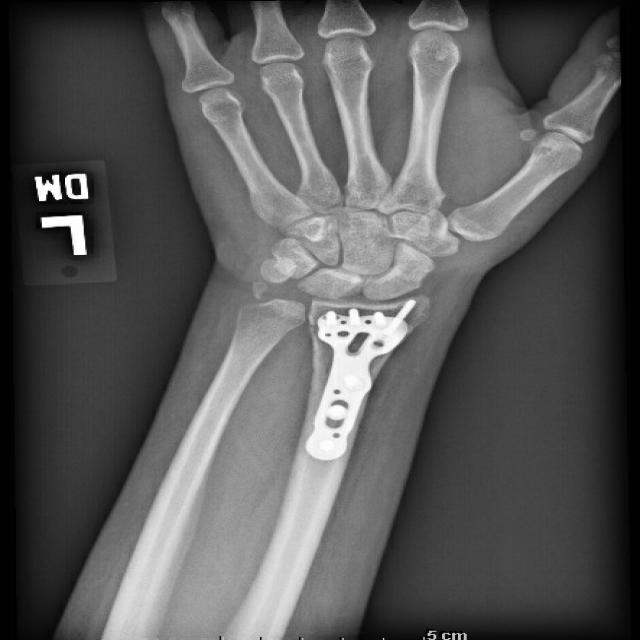x-ray: (306, 296, 425, 463)
